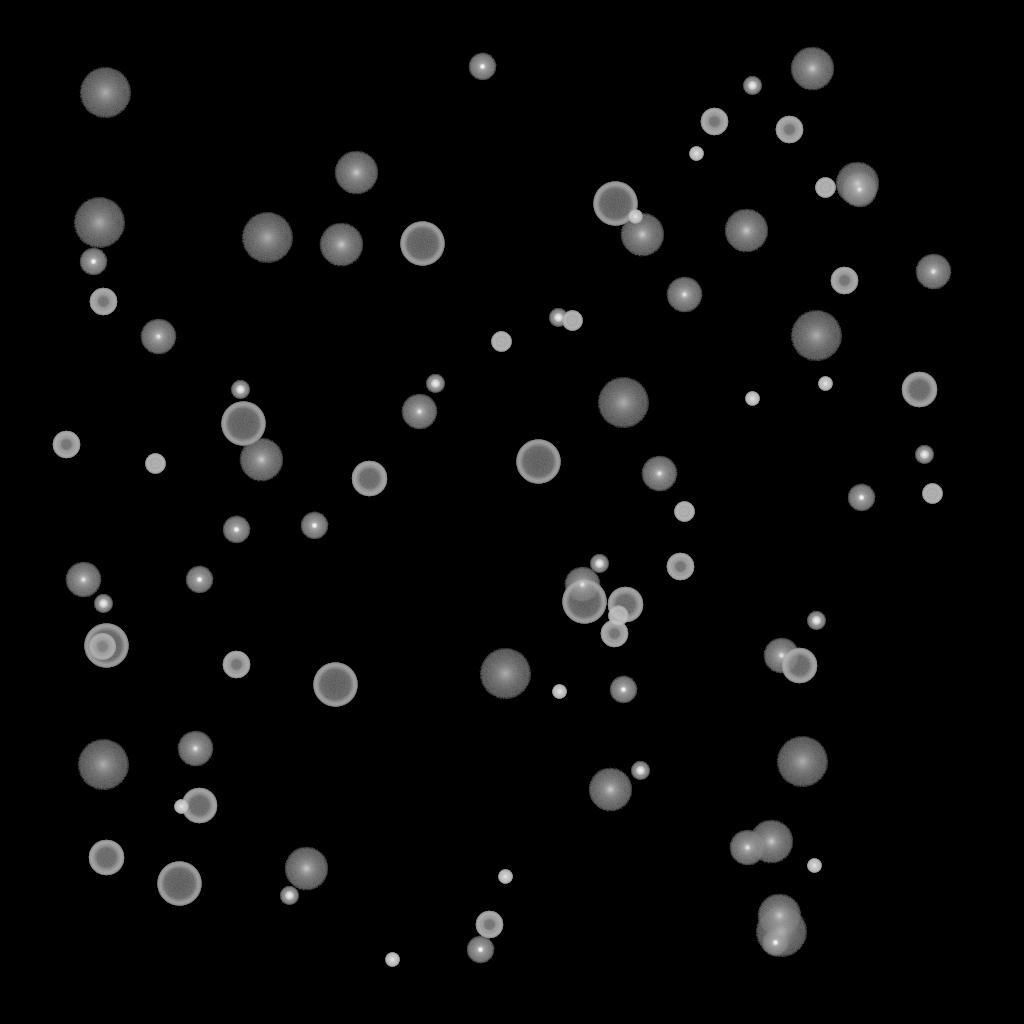depth:-10: (847, 484, 875, 512), (761, 929, 789, 957), (185, 566, 213, 594), (79, 248, 107, 276), (222, 516, 250, 544), (300, 512, 328, 540), (466, 936, 494, 964), (468, 53, 496, 81), (609, 676, 637, 704)
depth:-20: (807, 612, 825, 630), (590, 555, 608, 573), (94, 595, 112, 613), (426, 375, 444, 393), (743, 77, 761, 95), (631, 762, 649, 780), (231, 381, 249, 399), (280, 887, 298, 905), (549, 309, 567, 327), (915, 446, 933, 464)
depth:-30: (552, 685, 566, 699), (745, 392, 759, 406), (628, 210, 642, 224), (818, 377, 832, 391), (385, 953, 399, 967), (174, 800, 188, 814), (498, 870, 512, 884), (807, 859, 821, 873), (689, 147, 703, 161)
depth:-40: (815, 178, 835, 198), (145, 454, 165, 474), (922, 484, 942, 504), (491, 332, 511, 352), (608, 606, 628, 626), (674, 502, 694, 522), (562, 311, 582, 331)
depth:-50: (475, 911, 503, 939), (775, 116, 803, 144), (88, 633, 116, 661), (700, 108, 728, 136), (830, 267, 858, 295), (666, 553, 694, 581), (89, 288, 117, 316), (600, 620, 628, 648), (52, 431, 80, 459), (222, 651, 250, 679)
depth:-60: (351, 461, 387, 497), (781, 648, 817, 684), (88, 840, 124, 876), (181, 788, 217, 824), (607, 587, 643, 623), (901, 372, 937, 408)
depth:-70: (593, 182, 637, 226), (84, 624, 128, 668), (313, 663, 357, 707), (221, 402, 265, 446), (400, 222, 444, 266), (562, 580, 606, 624), (157, 862, 201, 906), (516, 440, 560, 484)
depth:0: (915, 254, 951, 290), (140, 319, 176, 355), (841, 172, 877, 208), (763, 638, 799, 674), (401, 394, 437, 430), (641, 456, 677, 492), (729, 830, 765, 866), (177, 731, 213, 767), (564, 567, 600, 603), (666, 277, 702, 313), (65, 562, 101, 598)
depth:10: (749, 820, 793, 864), (239, 438, 283, 482), (757, 894, 801, 938), (319, 223, 363, 267), (334, 151, 378, 195), (835, 162, 879, 206), (790, 47, 834, 91), (284, 847, 328, 891), (620, 213, 664, 257), (588, 768, 632, 812), (724, 209, 768, 253)
depth:20: (755, 907, 807, 957), (597, 378, 649, 428), (73, 198, 125, 248), (776, 737, 828, 787), (241, 213, 293, 263), (790, 311, 842, 361), (79, 68, 131, 118), (479, 649, 531, 699), (77, 740, 129, 790)
